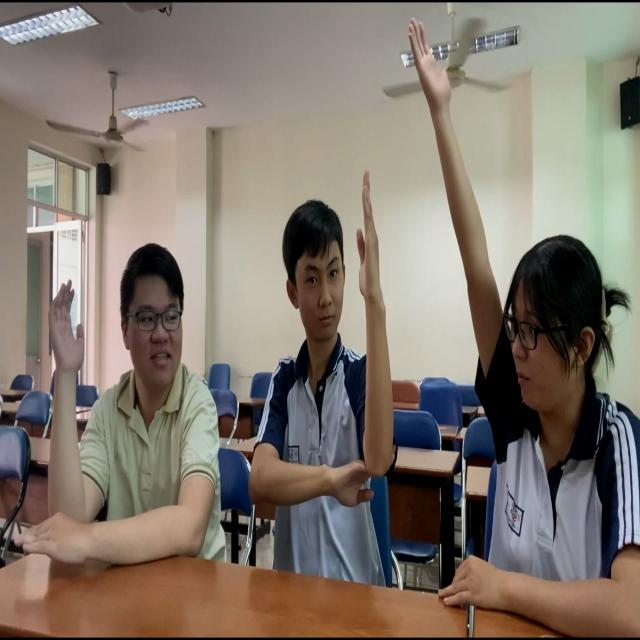raise_hand: (403, 25, 640, 623), (18, 235, 223, 583), (246, 166, 392, 578)
